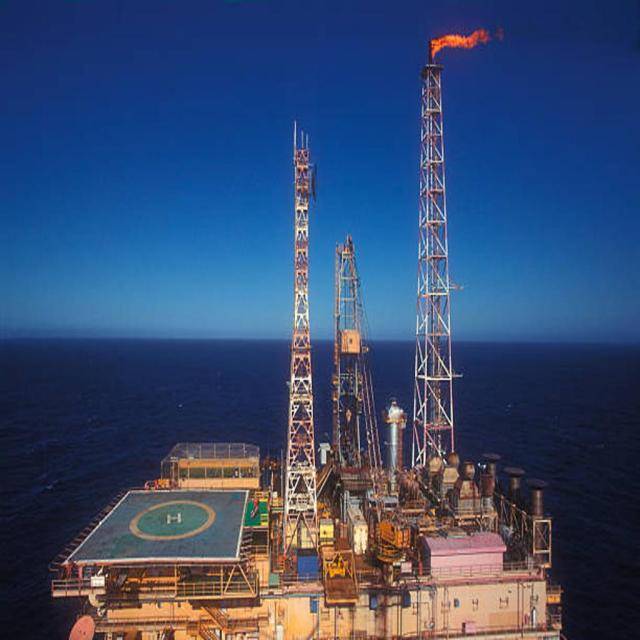helipad: (127, 500, 215, 540)
